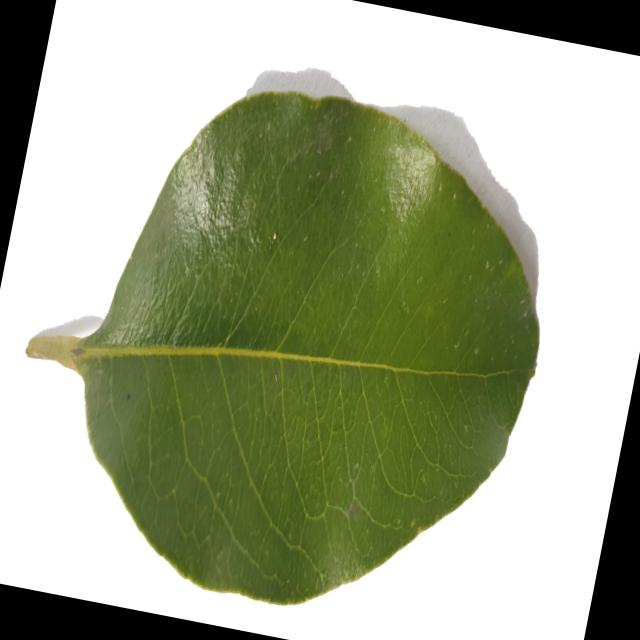Medicinal-Sandalwood: (0, 48, 579, 640)
